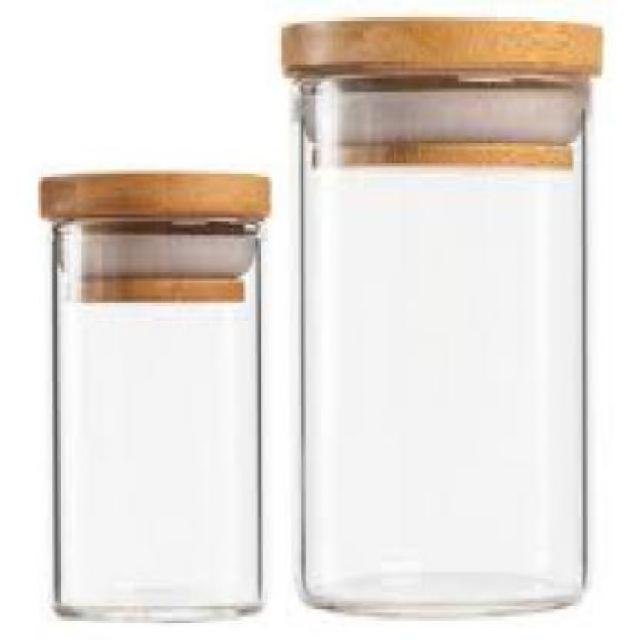kaca: (292, 69, 591, 614), (48, 215, 263, 614)
